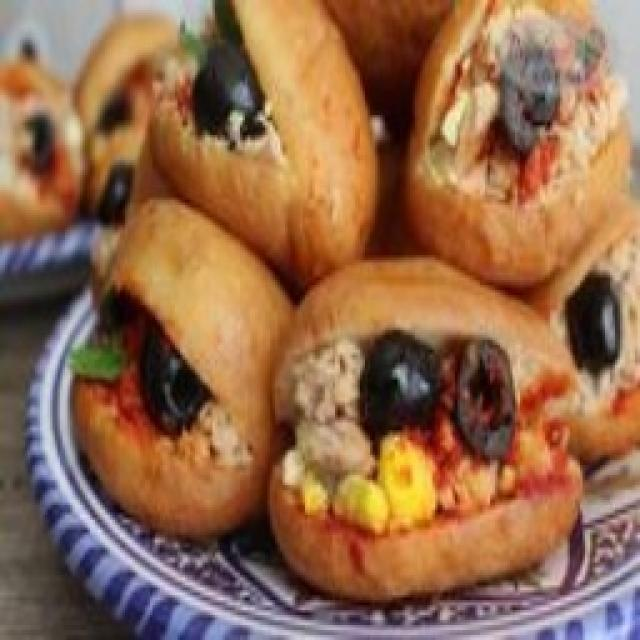Frecasse: (68, 0, 640, 602)
